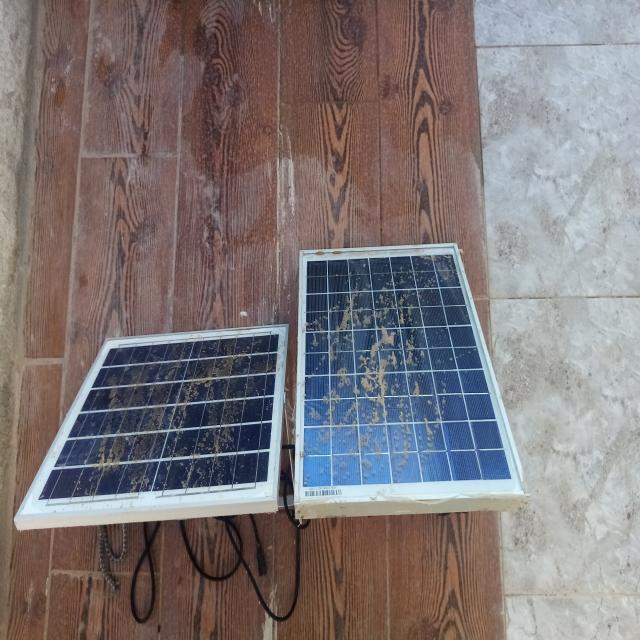faulty: (297, 245, 526, 506), (17, 325, 288, 518)
